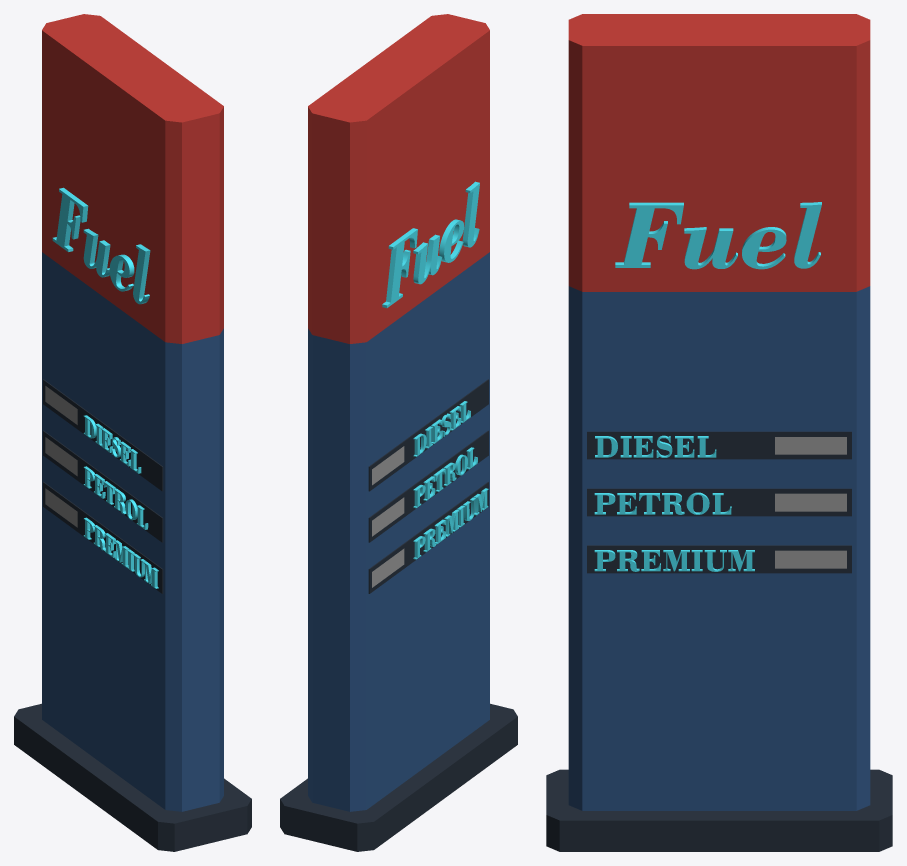
The model's file is SM_Buildings_Gas_Station_03.fbx.
3 views of the same model, side by side, from view 1: azimuth 30°, elevation 25°; view 2: azimuth 150°, elevation 25°; view 3: azimuth 270°, elevation 25° (orthographic). The views are drawn at different scales.
Parts seen in each view (by area): view 1: SM_Buildings_Gas_Station_03; view 2: SM_Buildings_Gas_Station_03; view 3: SM_Buildings_Gas_Station_03.
Part boxes in pixels (x1=…): SM_Buildings_Gas_Station_03: x1=14, y1=14, x2=251, y2=851; SM_Buildings_Gas_Station_03: x1=280, y1=14, x2=517, y2=851; SM_Buildings_Gas_Station_03: x1=546, y1=14, x2=892, y2=851.
Bounding box in the file's own units: 0.96 × 7 × 2.76.
